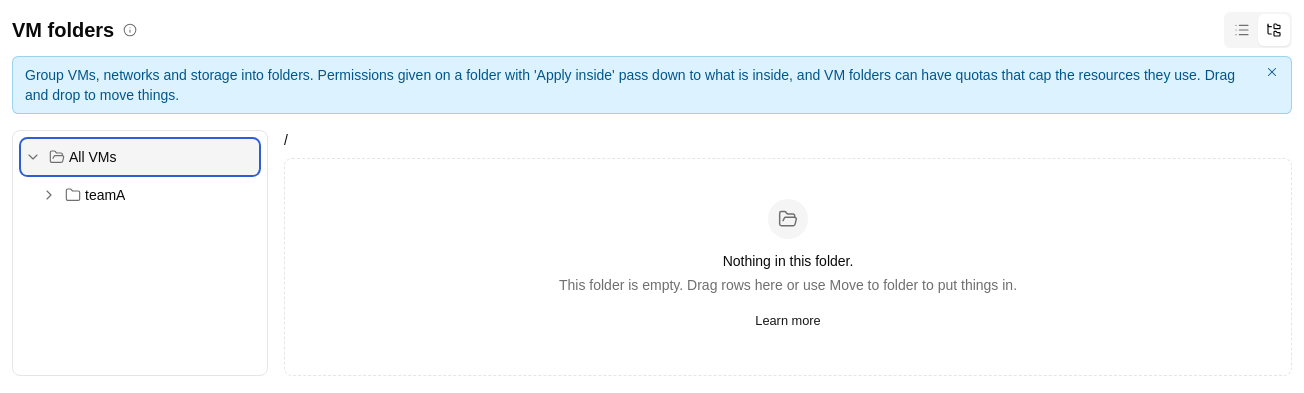
Scenario: shows a non-admin only the folders and VMs they can see, with keyboard tree navigation
expect the list items read "All VMs", "teamA", in this order: met, box left=21, top=139, right=259, bottom=175; left=37, top=183, right=126, bottom=207
expect the element that starts with "Nothing in this folder." shows "Drag rows here": met, box left=559, top=277, right=1017, bottom=293
Press Arrowdown
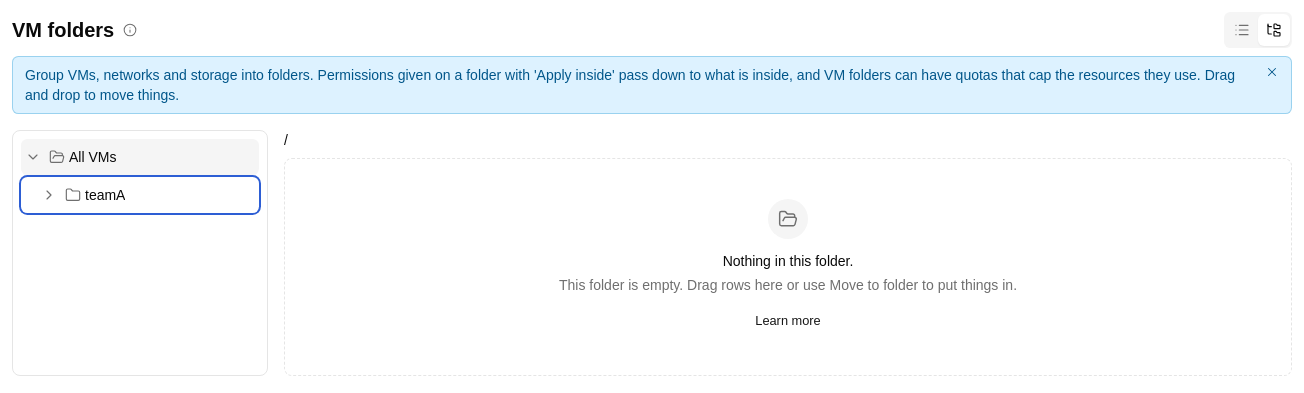
Press Arrowright
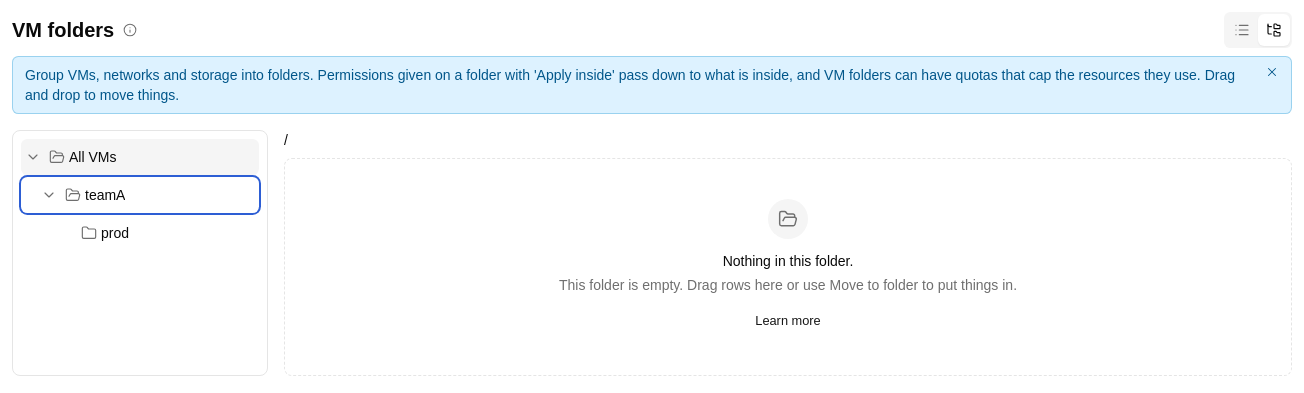
expect the list items read "All VMs", "teamA", "prod", in this order: met, box left=21, top=139, right=259, bottom=175; left=21, top=177, right=259, bottom=213; left=81, top=225, right=129, bottom=241
expect the list item "teamA" is expanded: met, box left=21, top=177, right=259, bottom=213
Press Arrowdown Enter
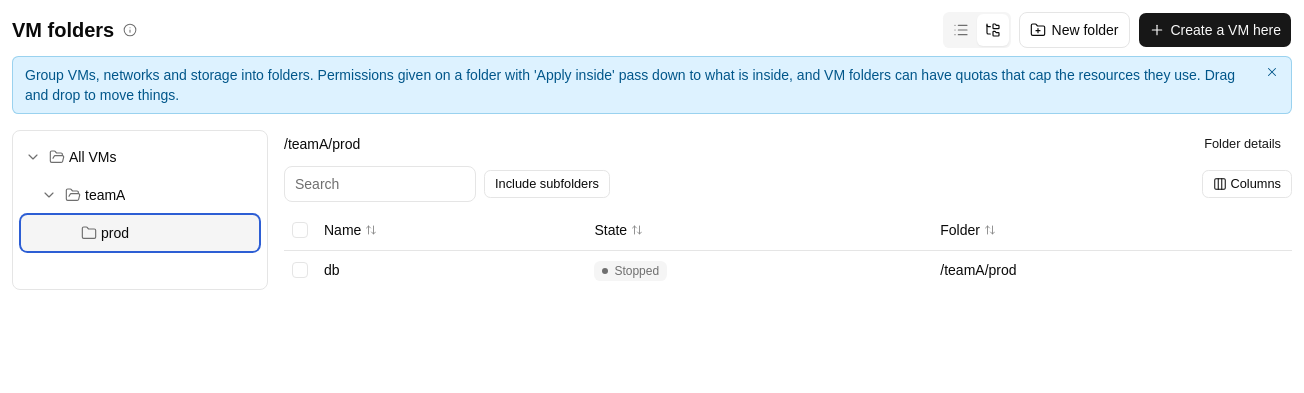
expect the link "web" is not shown: met
expect the heading "/teamA/prod" is shown: met, box left=284, top=134, right=360, bottom=154
expect the link "db" is shown: met, box left=324, top=262, right=340, bottom=278
Press Arrowleft
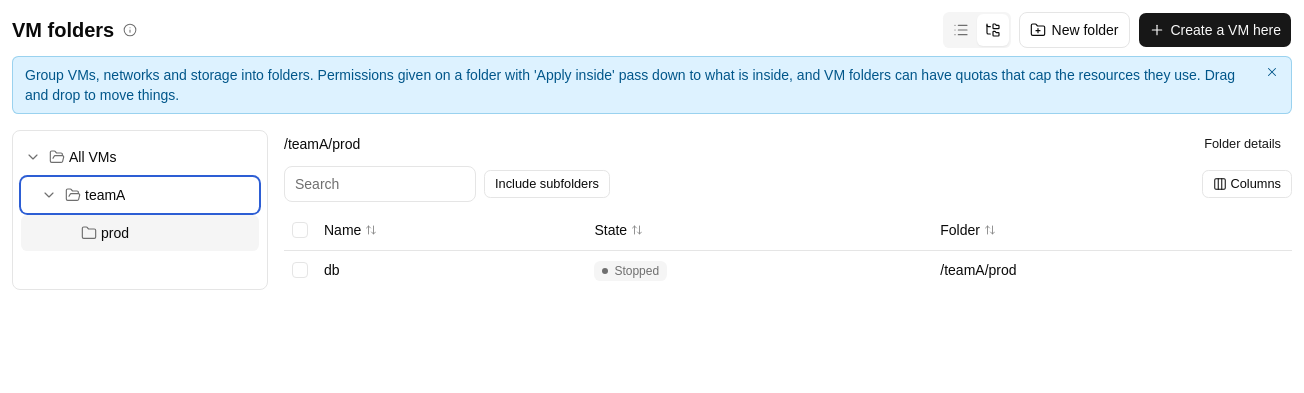
"하위 포함"이면 아래 폴더의 VM도
Click the list item "teamA": {"x": 140, "y": 195} left=21, top=177, right=259, bottom=213
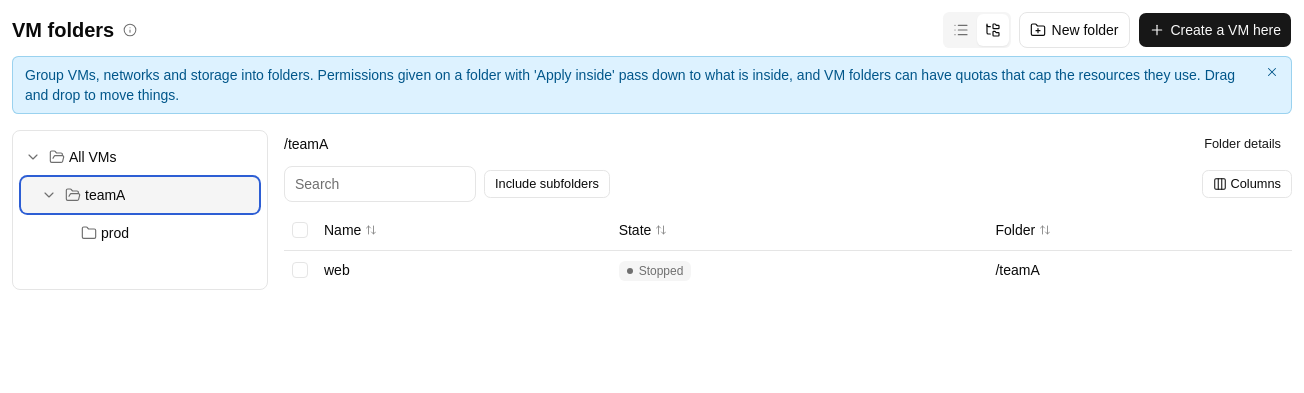
Click the button "Include subfolders": {"x": 547, "y": 184} left=484, top=170, right=610, bottom=198
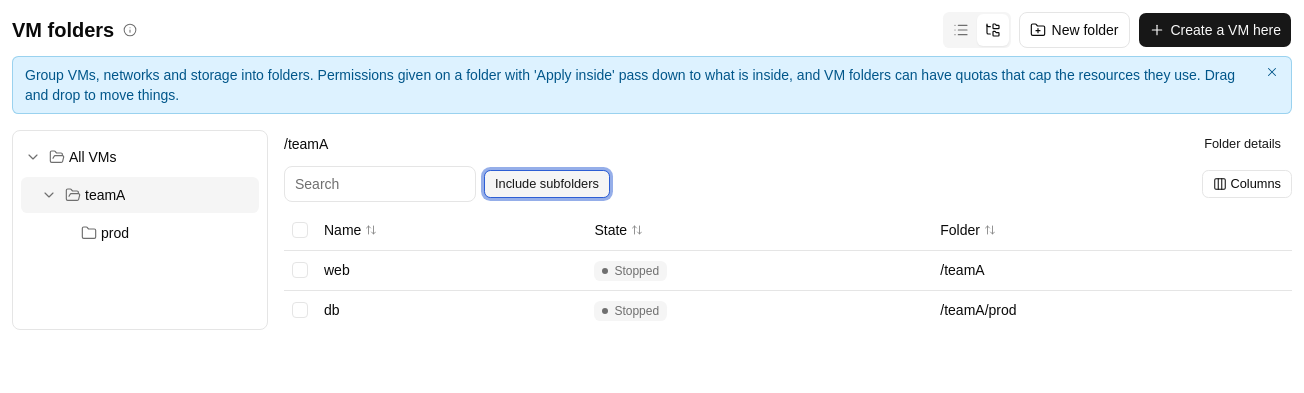
expect the link "web" is shown: met, box left=324, top=262, right=350, bottom=278
expect the link "db" is shown: met, box left=324, top=302, right=340, bottom=318
